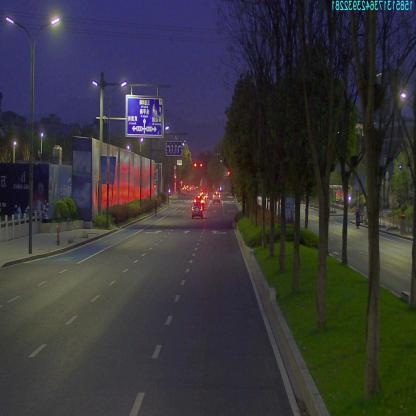traffic-light: (199, 159, 203, 168), (194, 159, 198, 168)
